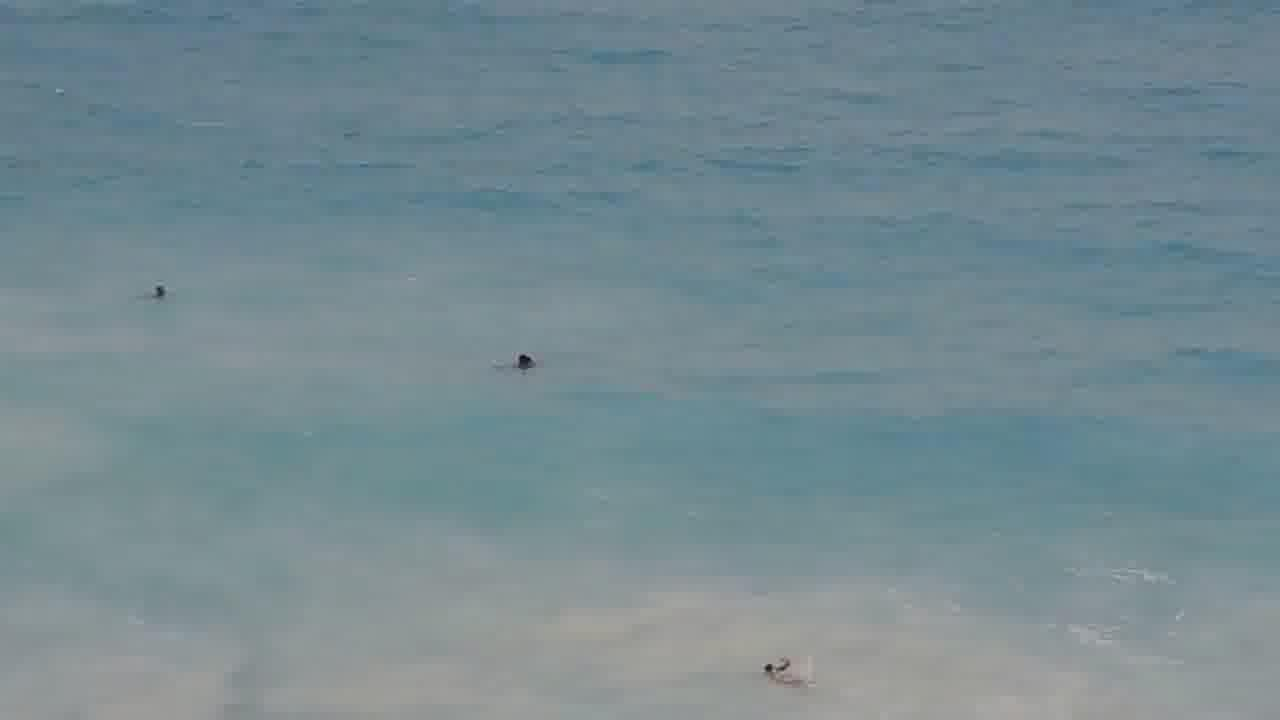swimmer: (505, 339, 541, 370), (145, 274, 169, 299)
